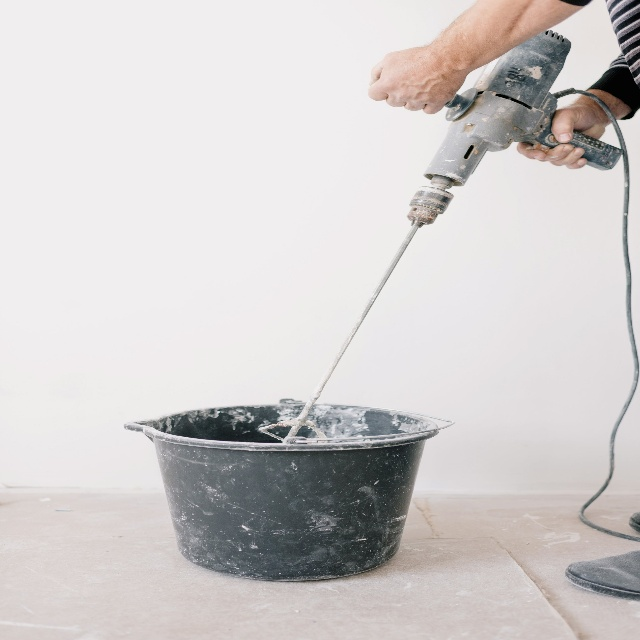Sin_guantes: (366, 44, 467, 121), (516, 105, 606, 174)
